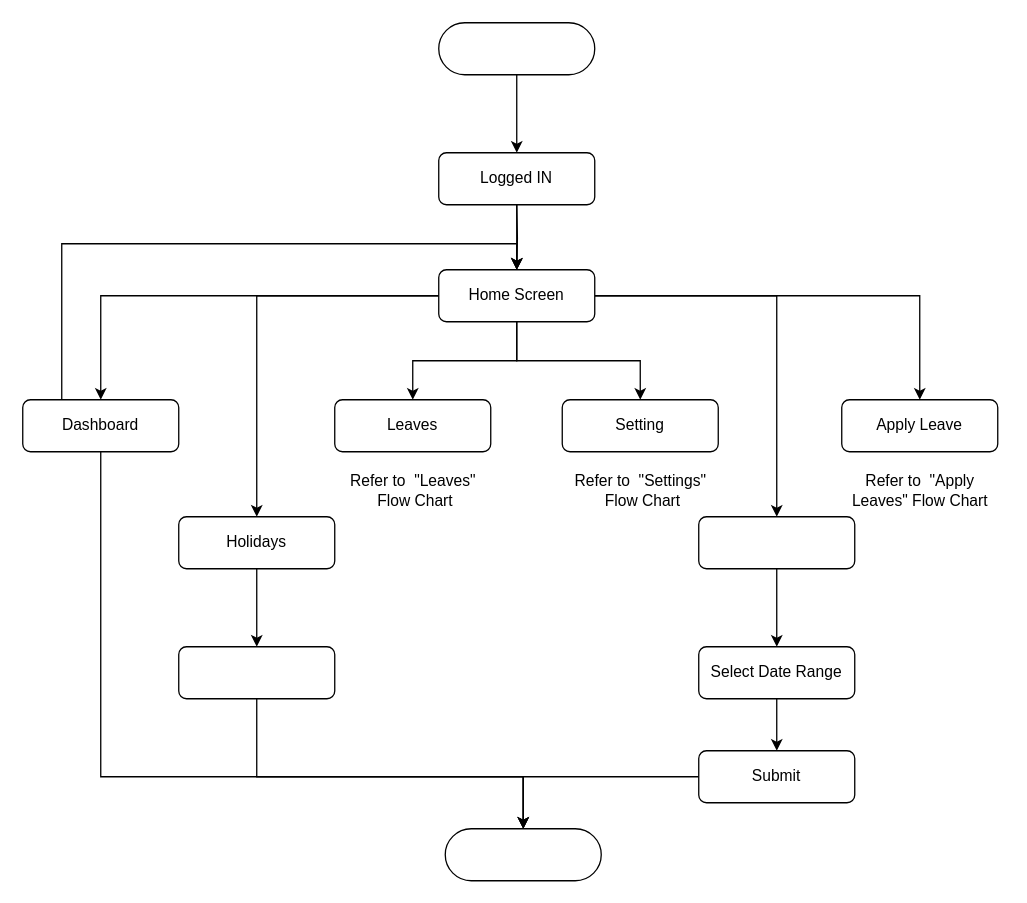
The diagram is 1027 pixels wide and 903 high, and some of its shapes have lost their labels. The shapes that lost their labels are listed below. From the top down, each one's centre as x and y in pixels, then its label:
the point at 516,48: Start
the point at 776,542: My Attendance
the point at 256,672: Details of Public Holidays
the point at 522,854: End
